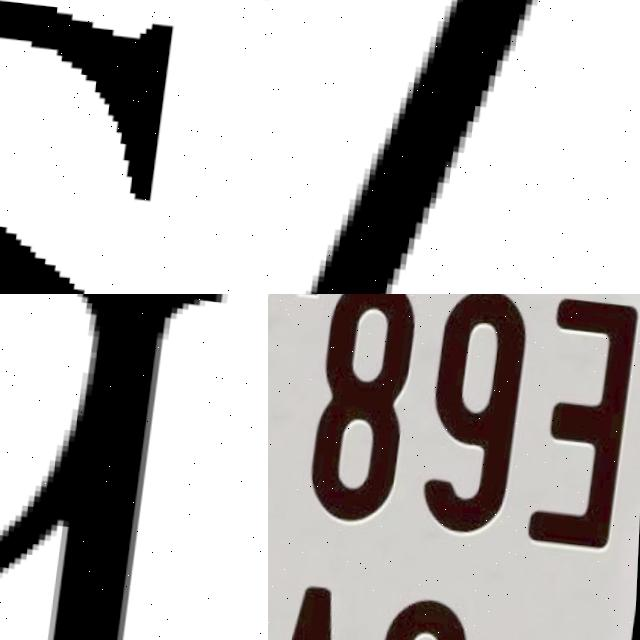5: (357, 583, 483, 640)
6: (411, 294, 533, 536)
8: (305, 294, 425, 529)
E: (518, 294, 640, 548)
H: (0, 294, 208, 640)
L: (268, 0, 614, 294)
S: (0, 0, 184, 294)
V: (268, 579, 367, 640)
